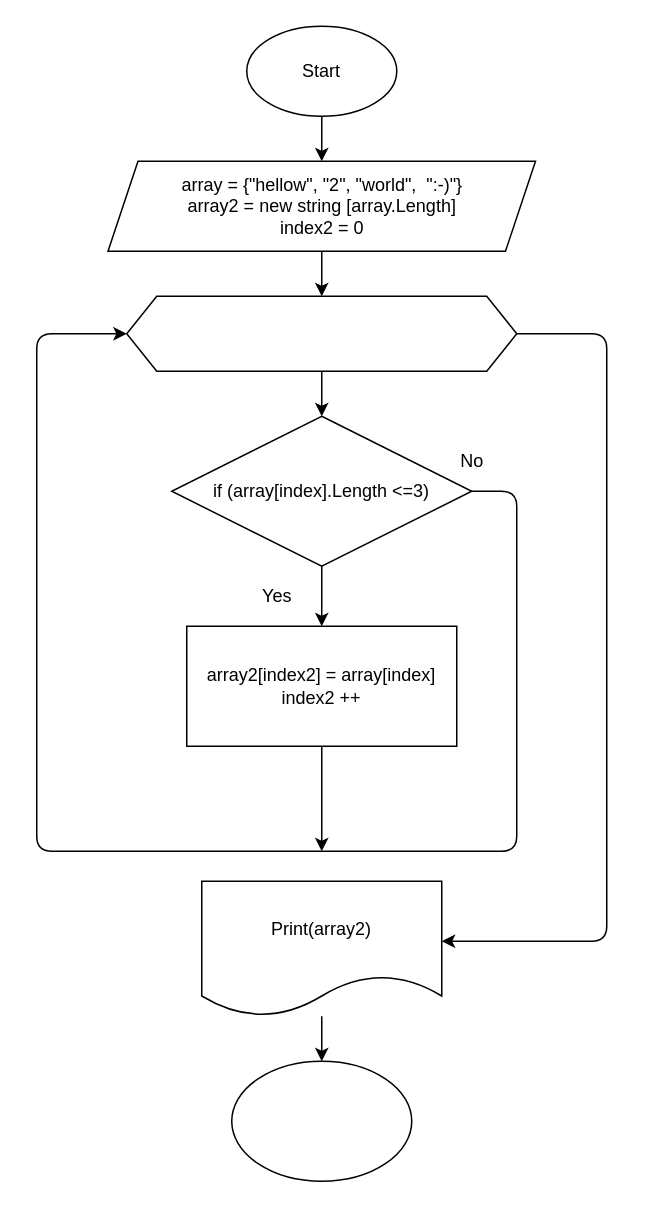
This 645x1208 diagram has some shape labels left out. Here are the shapes that lost their labels. From the top down, the centre of each, then its label:
(321,333): for (index = 0; index < arrayLength; index++)
(321,1120): End
